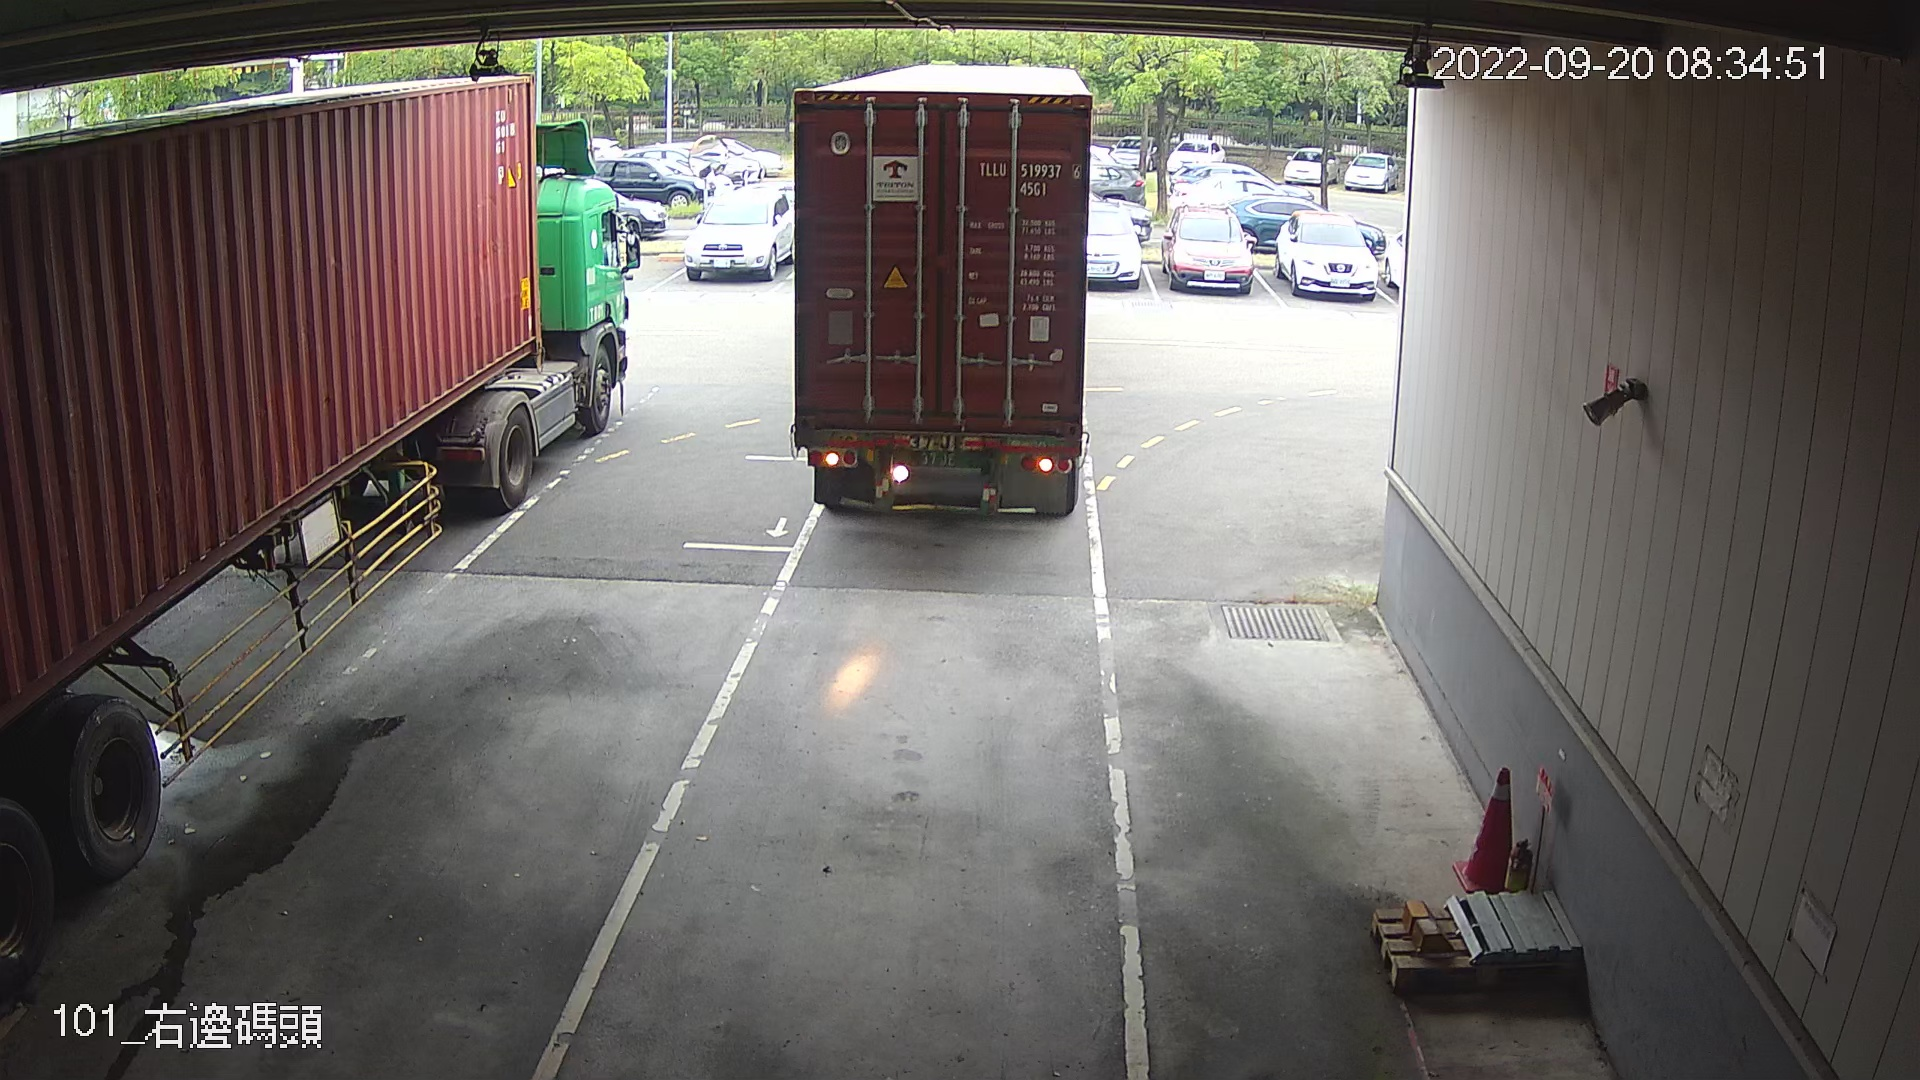container: (973, 154, 1087, 199)
